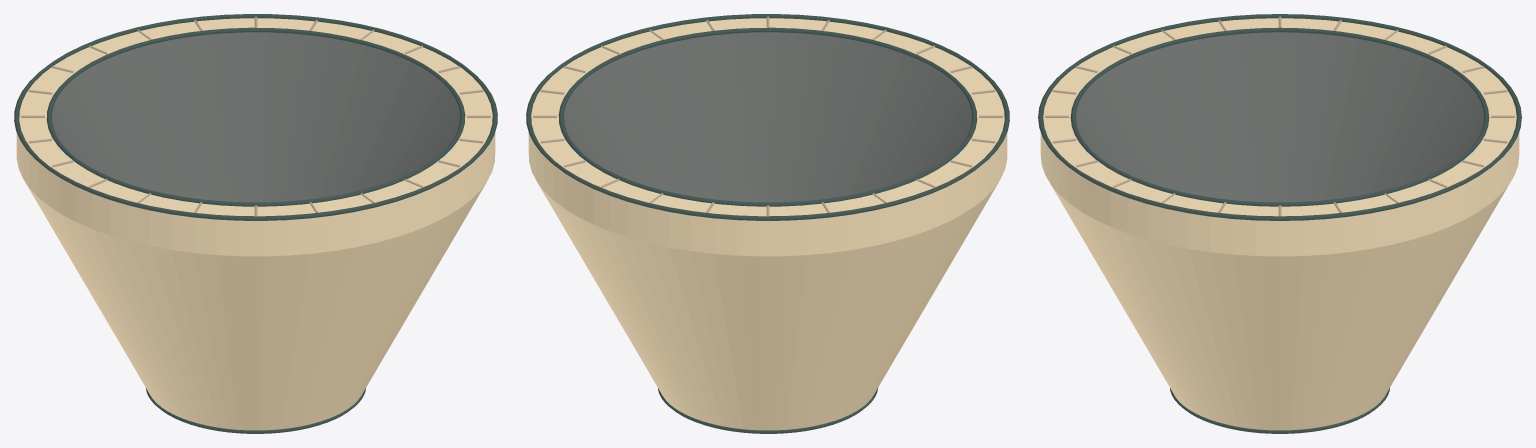
The model's file is exit-collar-v2.glb.
The picture shows the model from 3 angles, left to right: view 1: azimuth 30°, elevation 25°; view 2: azimuth 150°, elevation 25°; view 3: azimuth 270°, elevation 25°; orthographic projection.
Visible parts, largest first — view 1: TG02_DRAIN; view 2: TG02_DRAIN; view 3: TG02_DRAIN.
Part boxes in pixels (left/top/right/bottom): TG02_DRAIN: left=14, top=14, right=497, bottom=433; TG02_DRAIN: left=526, top=14, right=1009, bottom=433; TG02_DRAIN: left=1038, top=14, right=1521, bottom=433.
Size of the model in its own units: 2.22 by 1.39 by 2.22.
